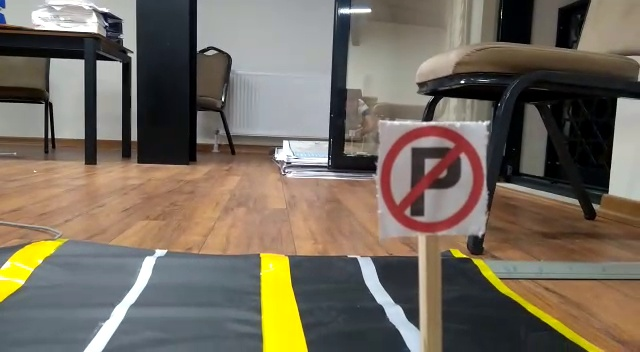park_yapilmaz: (375, 120, 487, 233)
